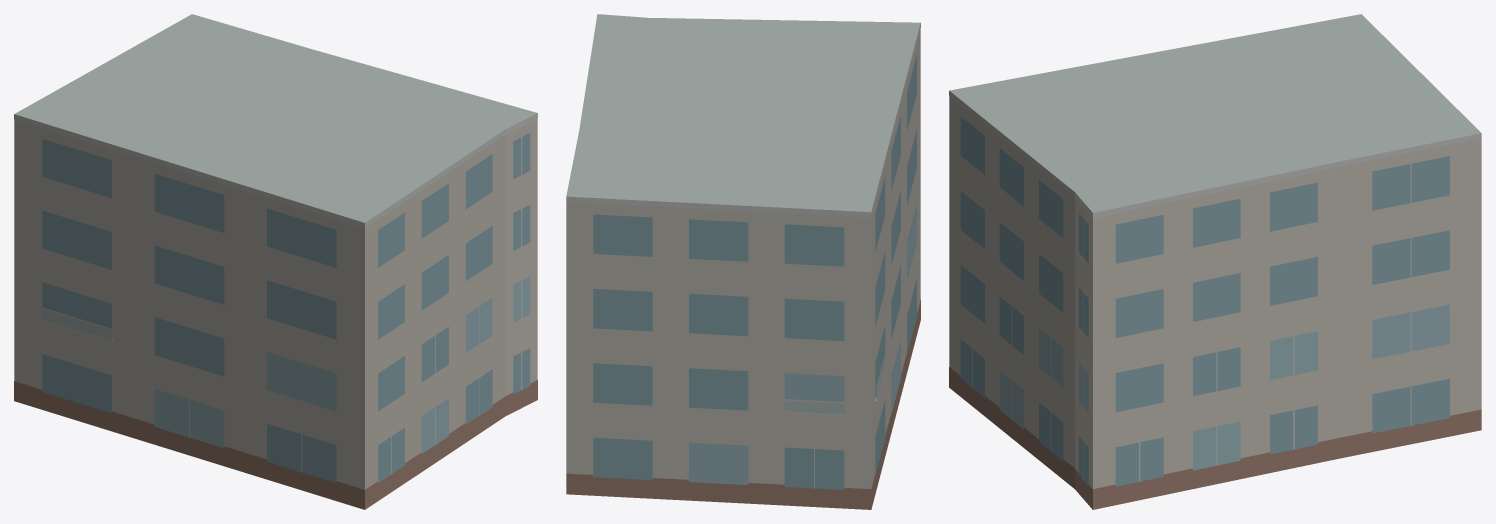
Rendered from survey-upis-32725076.glb.
3 views of the same model, side by side, from view 1: azimuth 30°, elevation 25°; view 2: azimuth 150°, elevation 25°; view 3: azimuth 270°, elevation 25° (orthographic). The views are drawn at different scales.
Parts seen in each view (by area): view 1: survey-upis-32725076.tmp; view 2: survey-upis-32725076.tmp; view 3: survey-upis-32725076.tmp.
Boxes of the visible parts, box(x1,y1,x2,y2) form: survey-upis-32725076.tmp: box(14, 14, 537, 509); survey-upis-32725076.tmp: box(566, 14, 920, 509); survey-upis-32725076.tmp: box(949, 14, 1481, 509).
Bounding box in the file's own units: 18.54 × 12.9 × 20.97.
